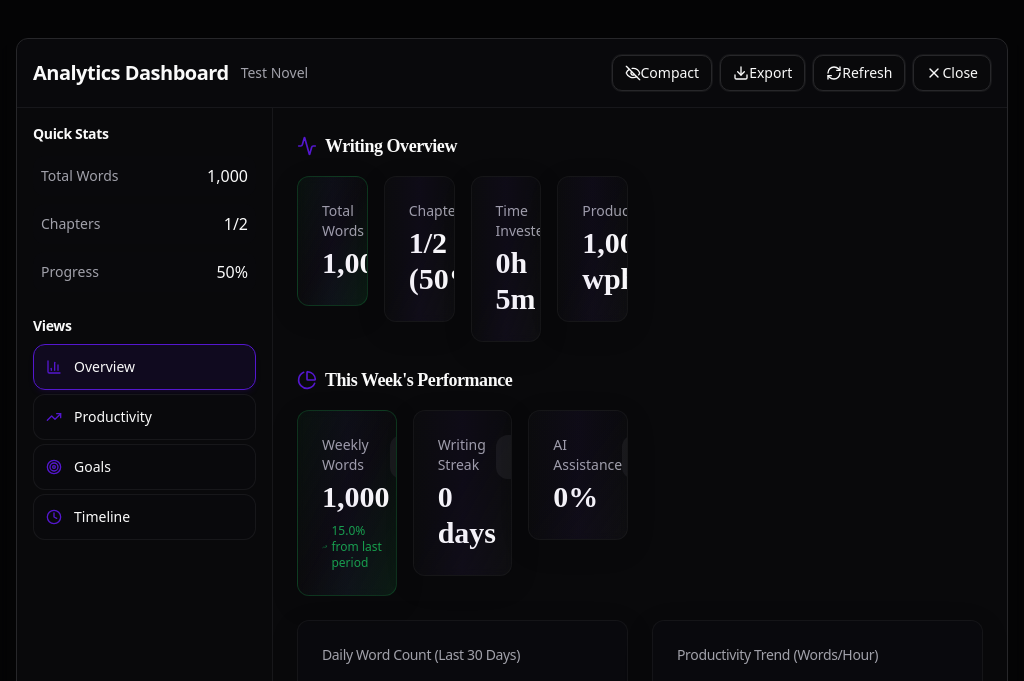
Scenario: AnalyticsDashboard › toggles compact view
Step 1. Click the button "Compact" → (662, 73), box [612, 55, 712, 91]
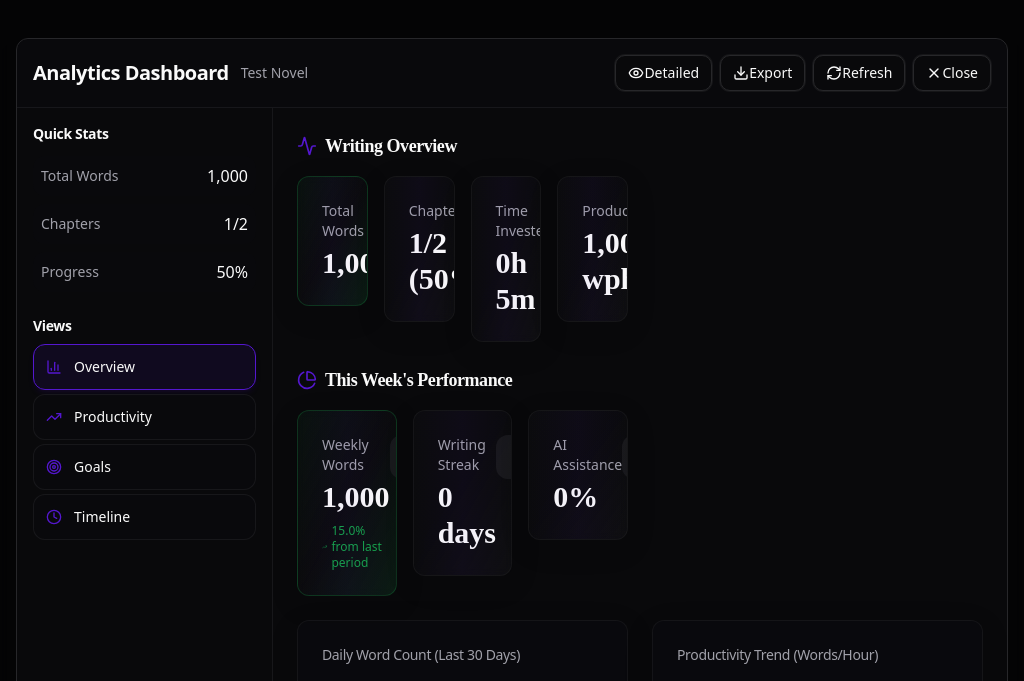
Now the button "Detailed" is shown, box [615, 55, 712, 91]
